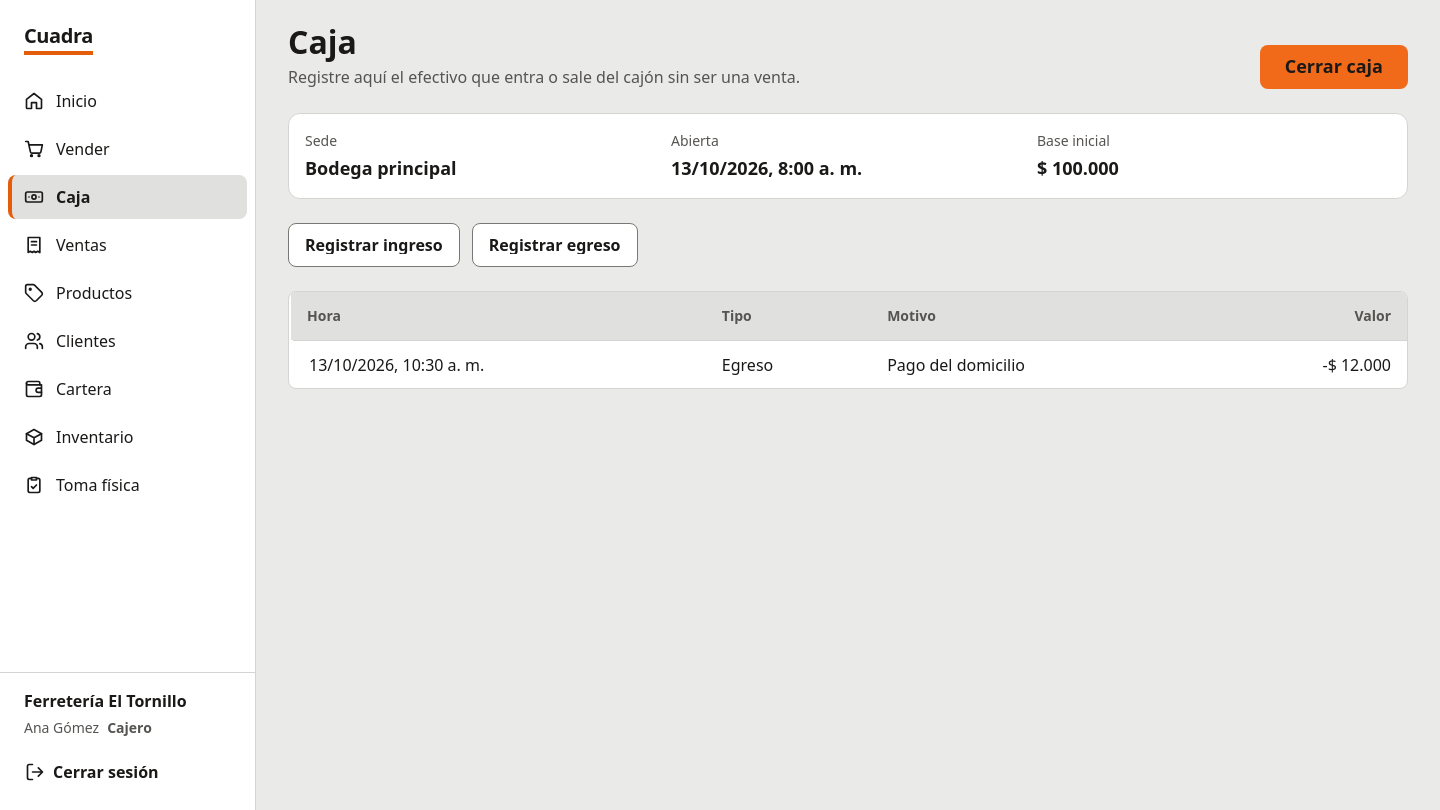
CashPage › pide el motivo del movimiento
Click the button "Registrar ingreso": (374,245) [288,223,460,267]
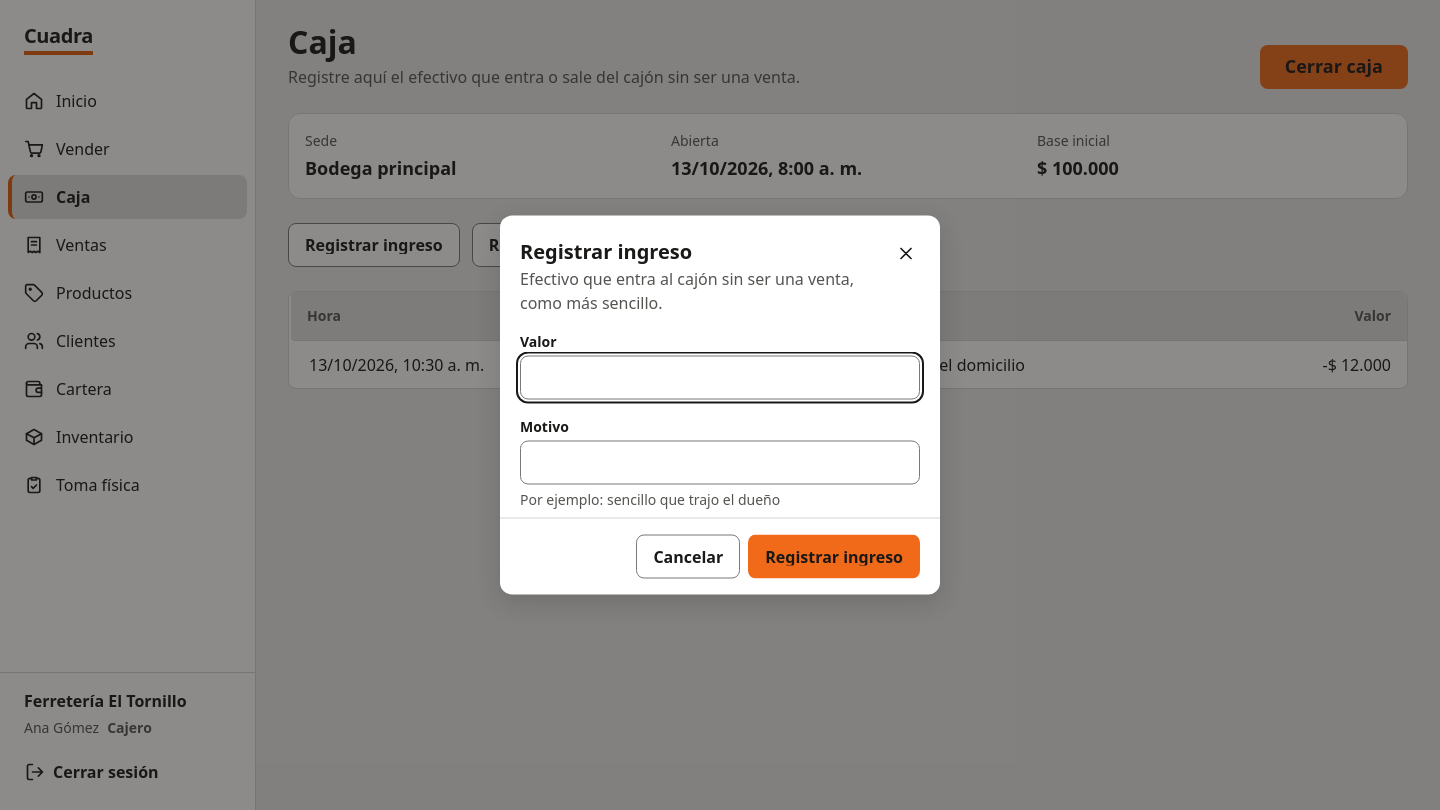
In the field labelled "Valor": (720,378) [520,356,920,400], type "5000"
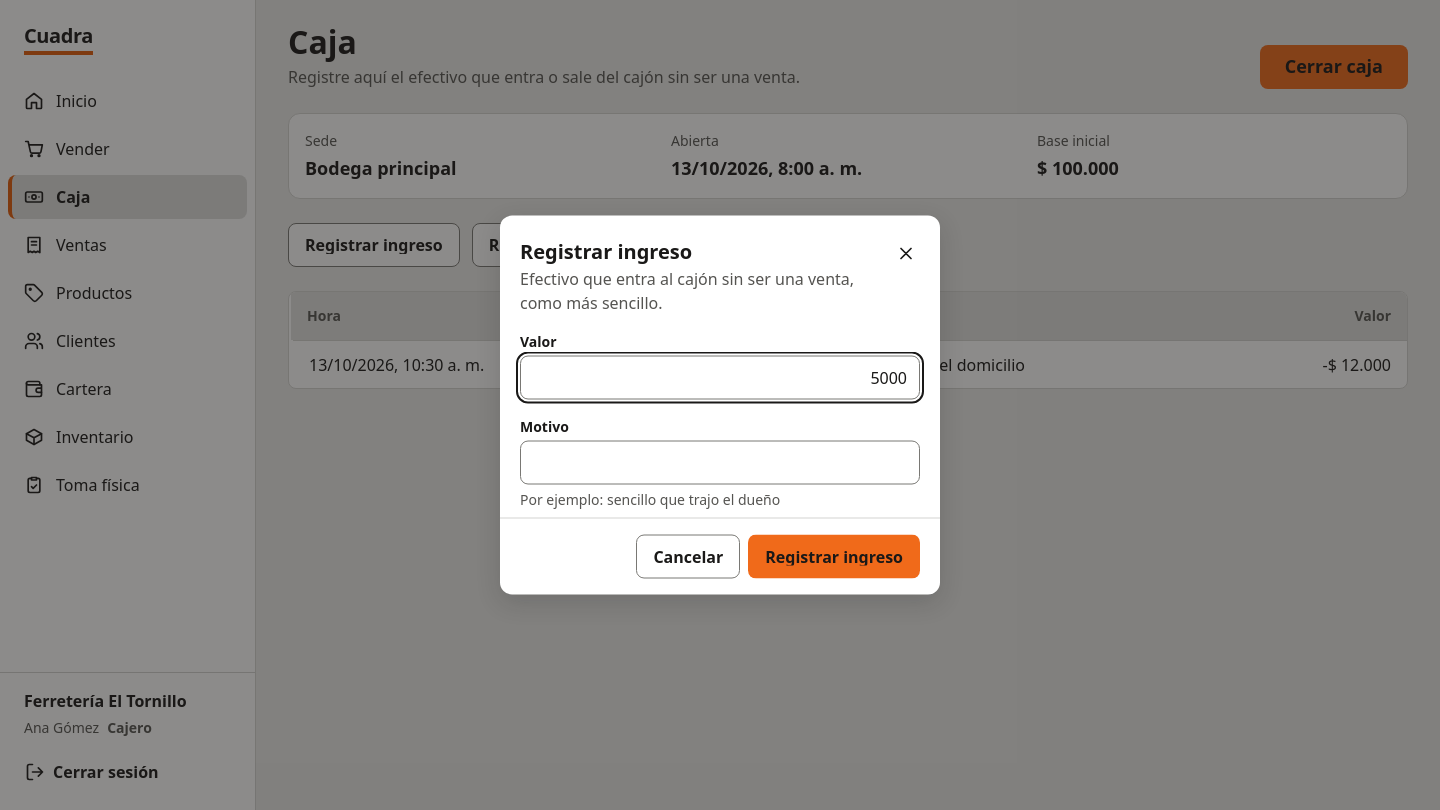
Click the button "Registrar ingreso": (834,556) [748,534,920,578]
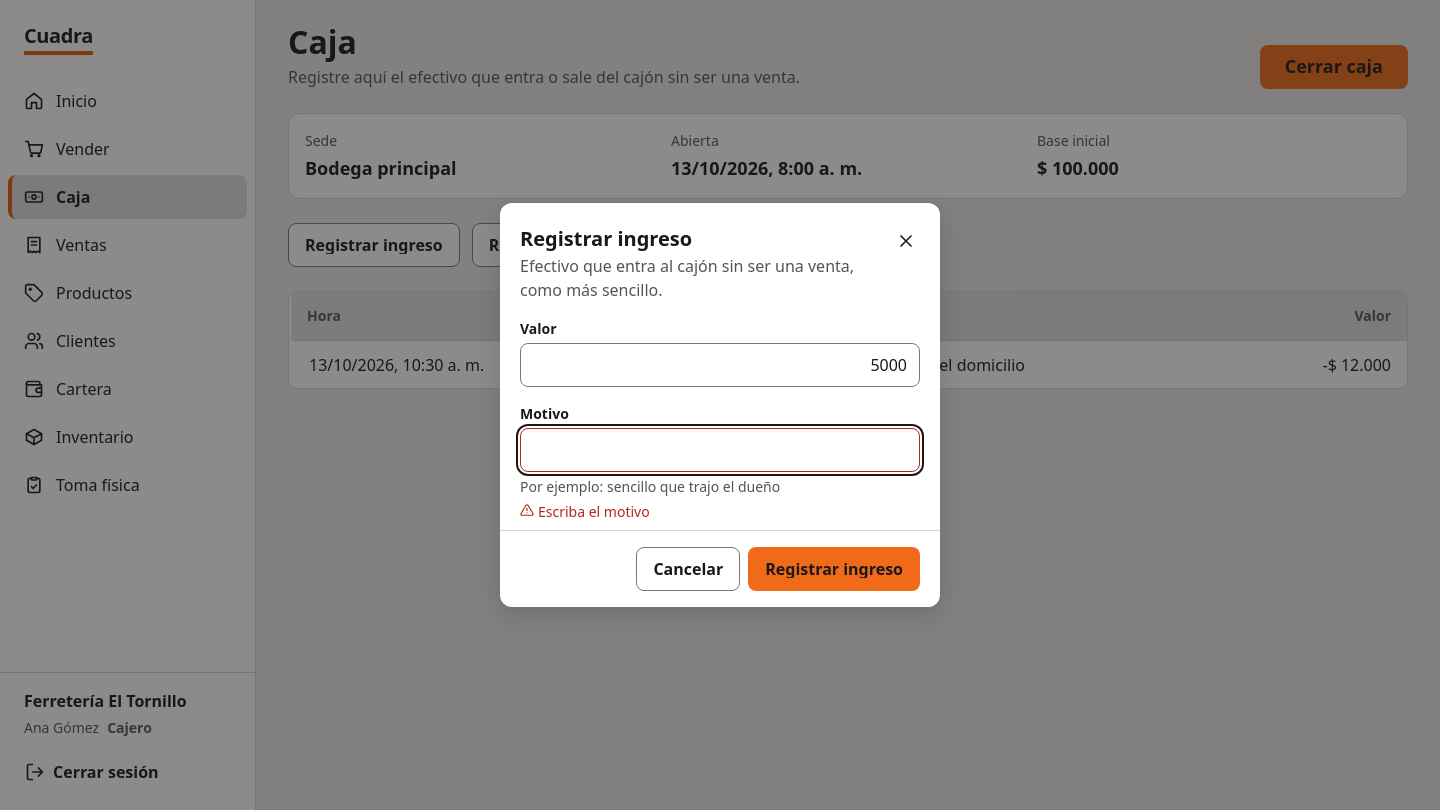
Expected: the text "Escriba el motivo" is shown, [538,501,650,522]
